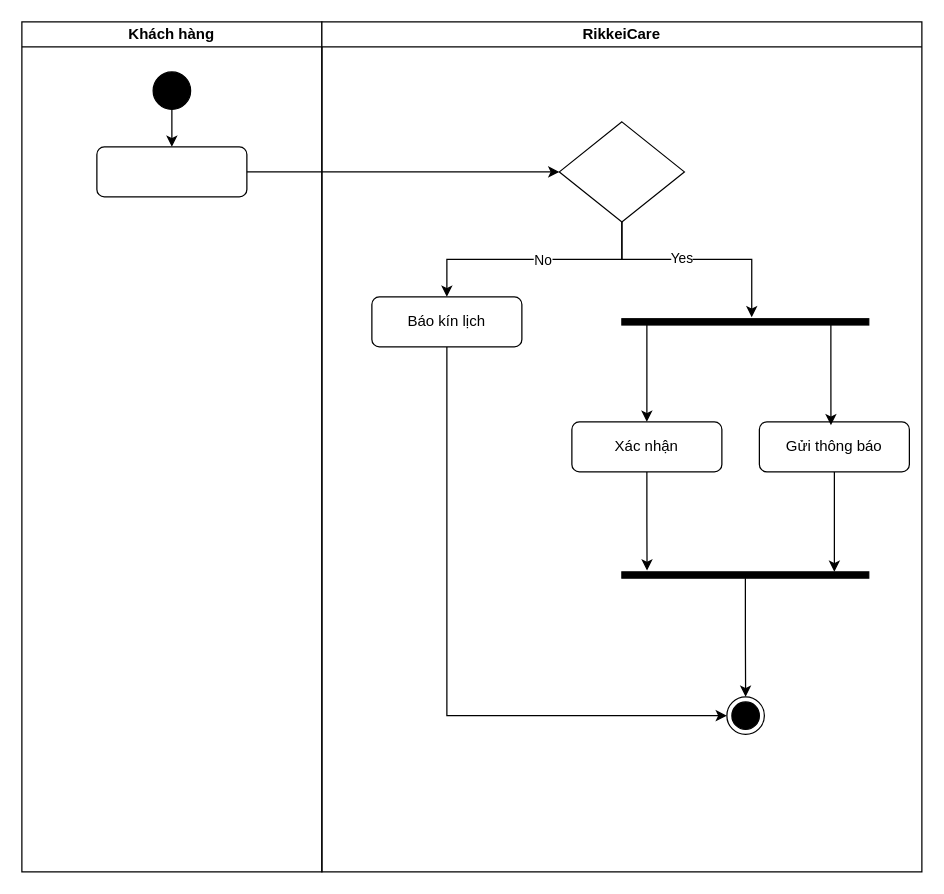
This 944x894 diagram has some shape labels left out. Each missing label, with the centre of its shape:
Lịch trống?: the point at 621,171
Đặt lịch: the point at 171,171
